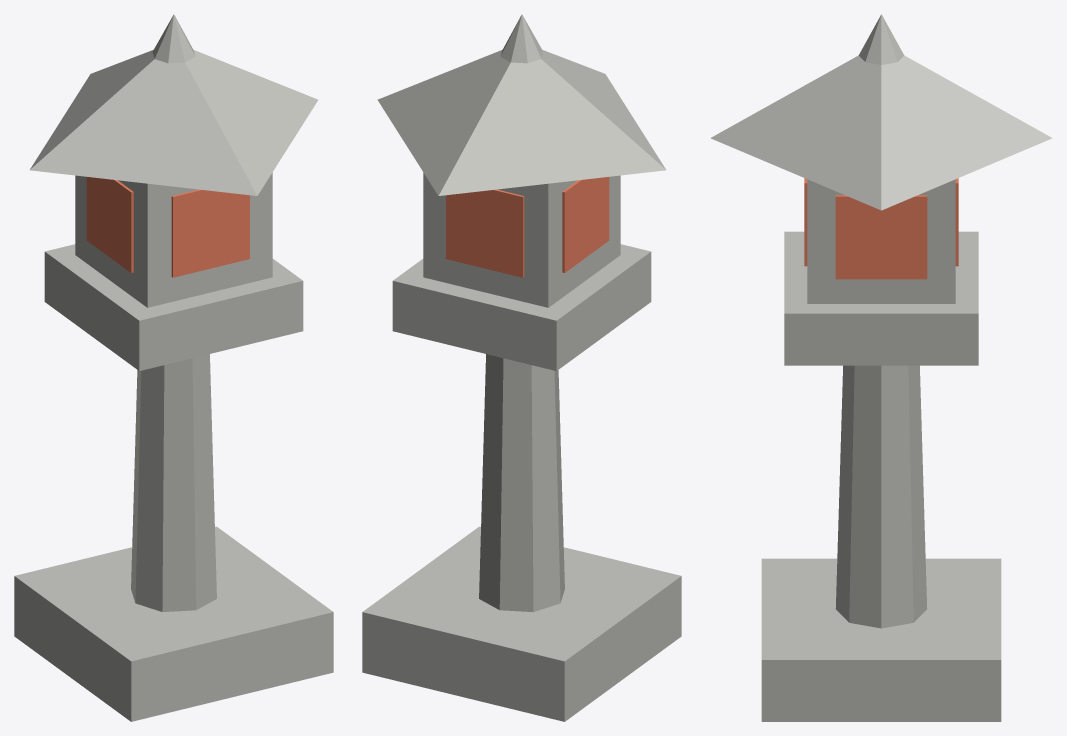
Rendered from SonMon_prop_lantern.fbx.
3 renders of one model, left to right at view 1: azimuth 30°, elevation 25°; view 2: azimuth 150°, elevation 25°; view 3: azimuth 270°, elevation 25°, orthographic. The views are drawn at different scales.
Visible parts, largest first — view 1: prop_lantern; view 2: prop_lantern; view 3: prop_lantern.
Boxes of the visible parts, bbox=[...] form: prop_lantern: bbox=[14, 14, 333, 721]; prop_lantern: bbox=[362, 14, 681, 721]; prop_lantern: bbox=[710, 14, 1052, 721].
Bounding box in the file's own units: 0.6 × 1.27 × 0.6.
